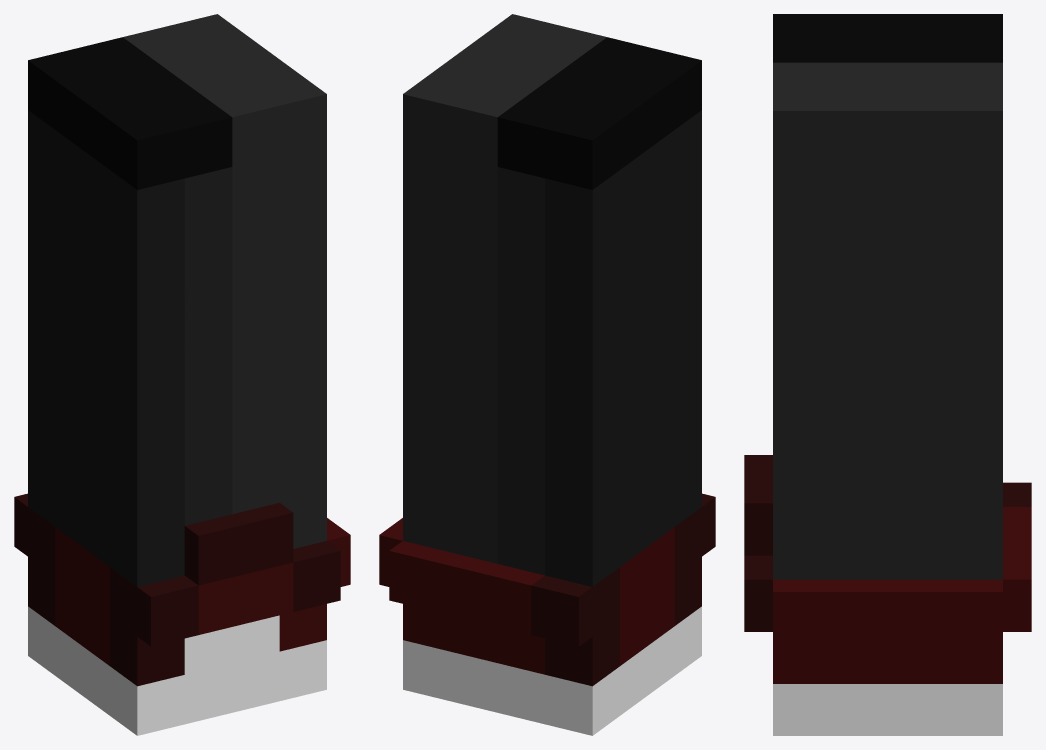
File: leftLeg.obj
The picture shows the model from 3 angles, left to right: view 1: azimuth 30°, elevation 25°; view 2: azimuth 150°, elevation 25°; view 3: azimuth 270°, elevation 25°; orthographic projection. The views are drawn at different scales.
Size of the model in its own units: 0.9 by 2.4 by 1.
Materials: 1 (1 with a texture image).
